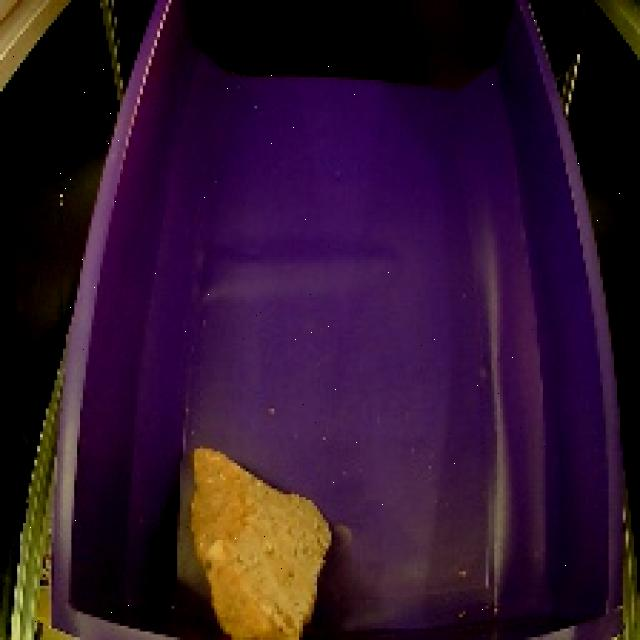brick: (178, 439, 339, 640)
